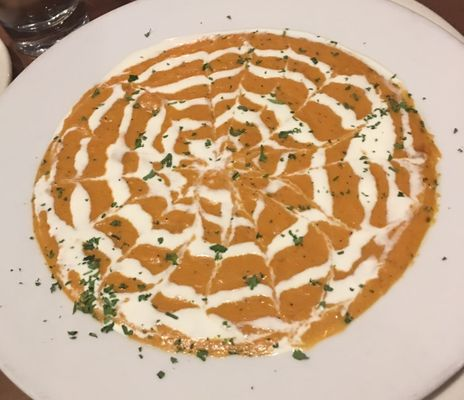pizza: (0, 1, 88, 54), (0, 1, 83, 37)
